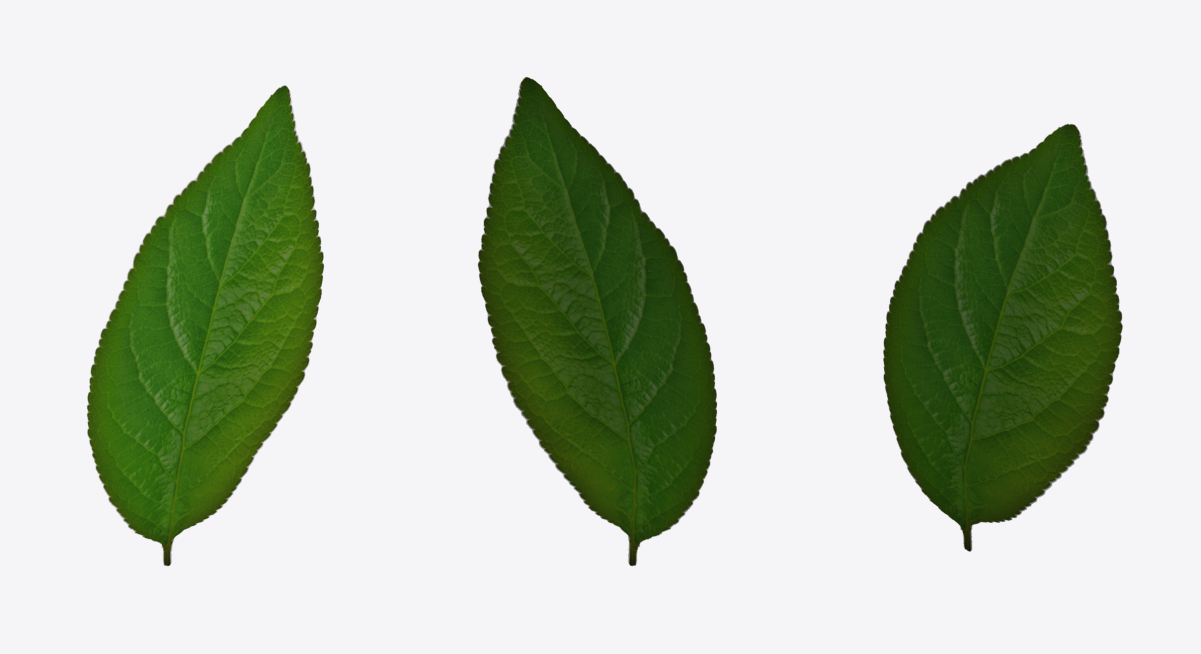
The model's file is leaf-01.glb.
3 renders of one model, left to right at view 1: azimuth 30°, elevation 25°; view 2: azimuth 150°, elevation 25°; view 3: azimuth 330°, elevation 25°, orthographic.
Visible parts, largest first — view 1: Group34376_2; view 2: Group34376_2; view 3: Group34376_2.
Boxes of the visible parts, left/top/right/bottom form: Group34376_2: left=87, top=85, right=323, bottom=565; Group34376_2: left=478, top=77, right=716, bottom=565; Group34376_2: left=883, top=124, right=1122, bottom=551.
Bounding box in the file's own units: 1.33 × 1.83 × 0.0421.
Materials: 1 (1 with a texture image).
